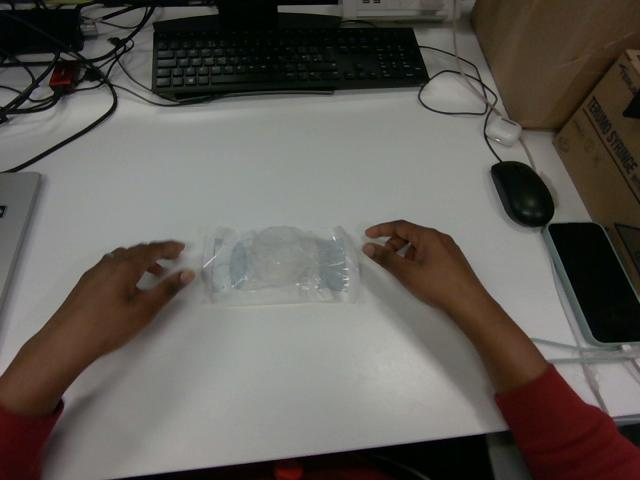gallipot: (203, 226, 359, 304)
